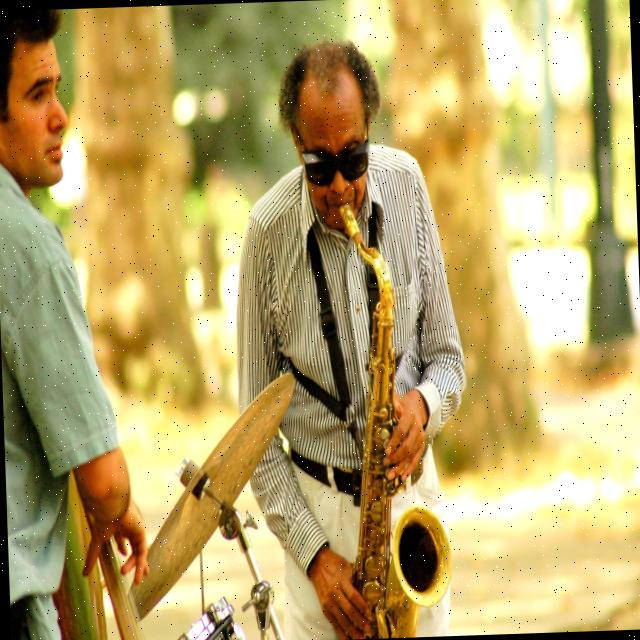drums: (94, 363, 299, 640)
saxophone: (314, 196, 448, 638)
